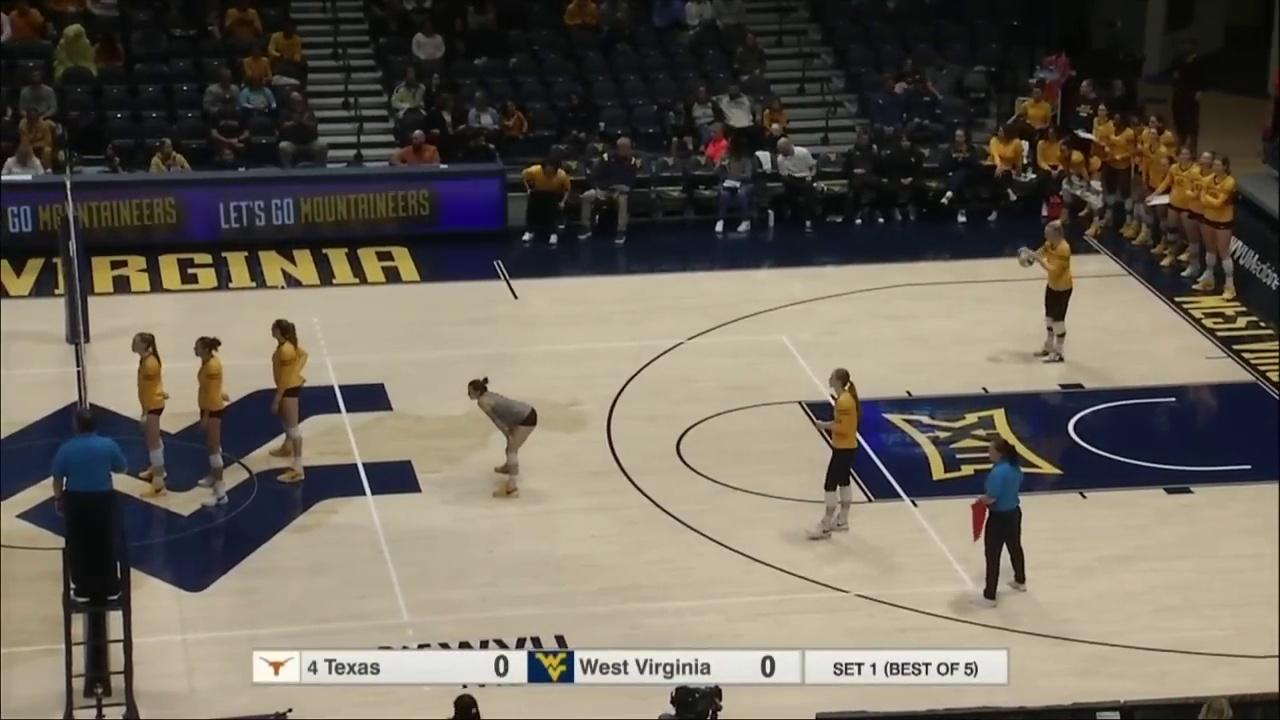player: (463, 377, 537, 496), (812, 368, 859, 541), (129, 329, 171, 498), (1024, 219, 1073, 363), (189, 335, 230, 504), (267, 317, 308, 483)
refree: (54, 409, 128, 600), (975, 436, 1028, 608)
